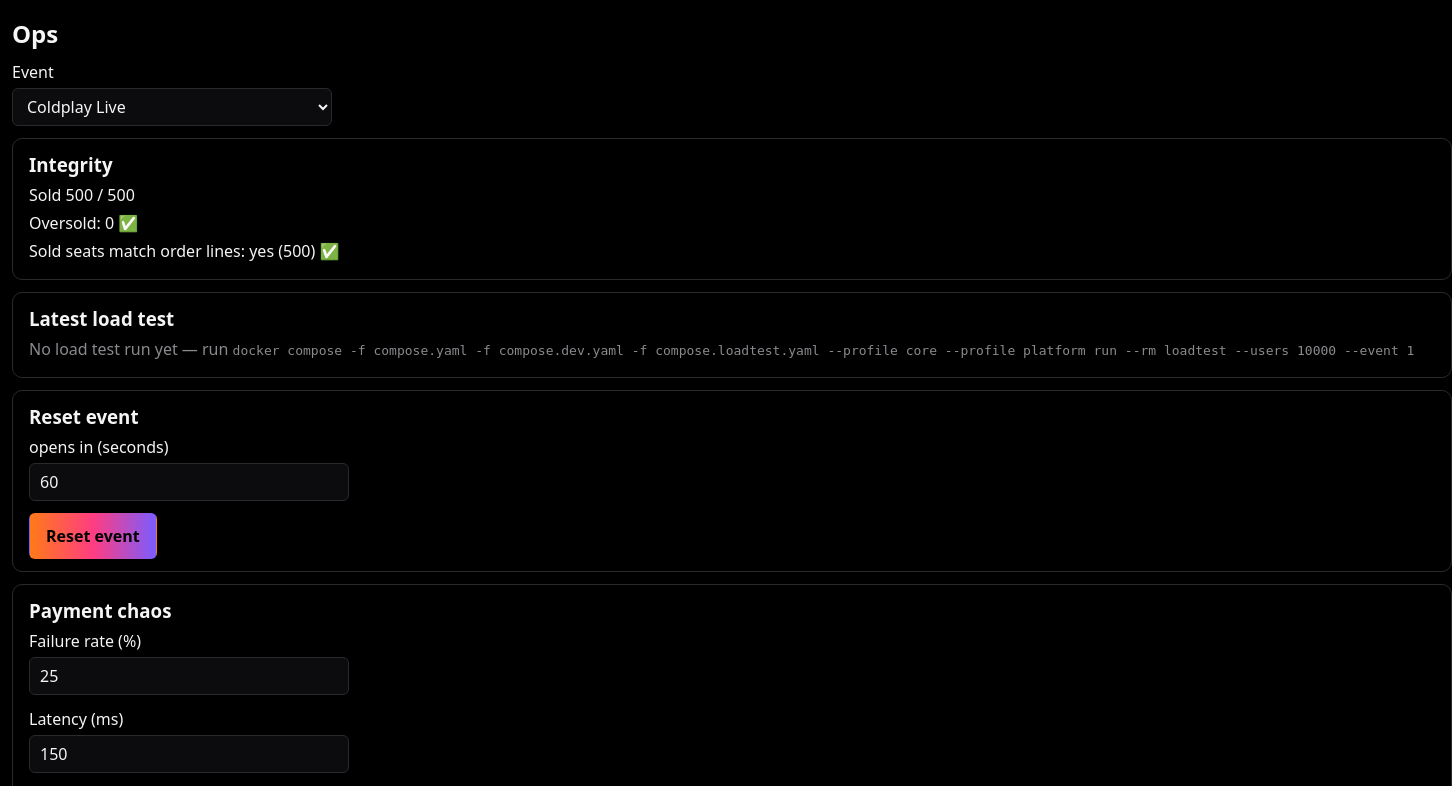
it: OpsPage › resets once even on double click
Expected: the text "Oversold: 0 ✅" is shown, [29,212,138,234]
Replace the text in the number field labelled "opens in (seconds)" with "30": [189, 482] box [29,463,349,501]
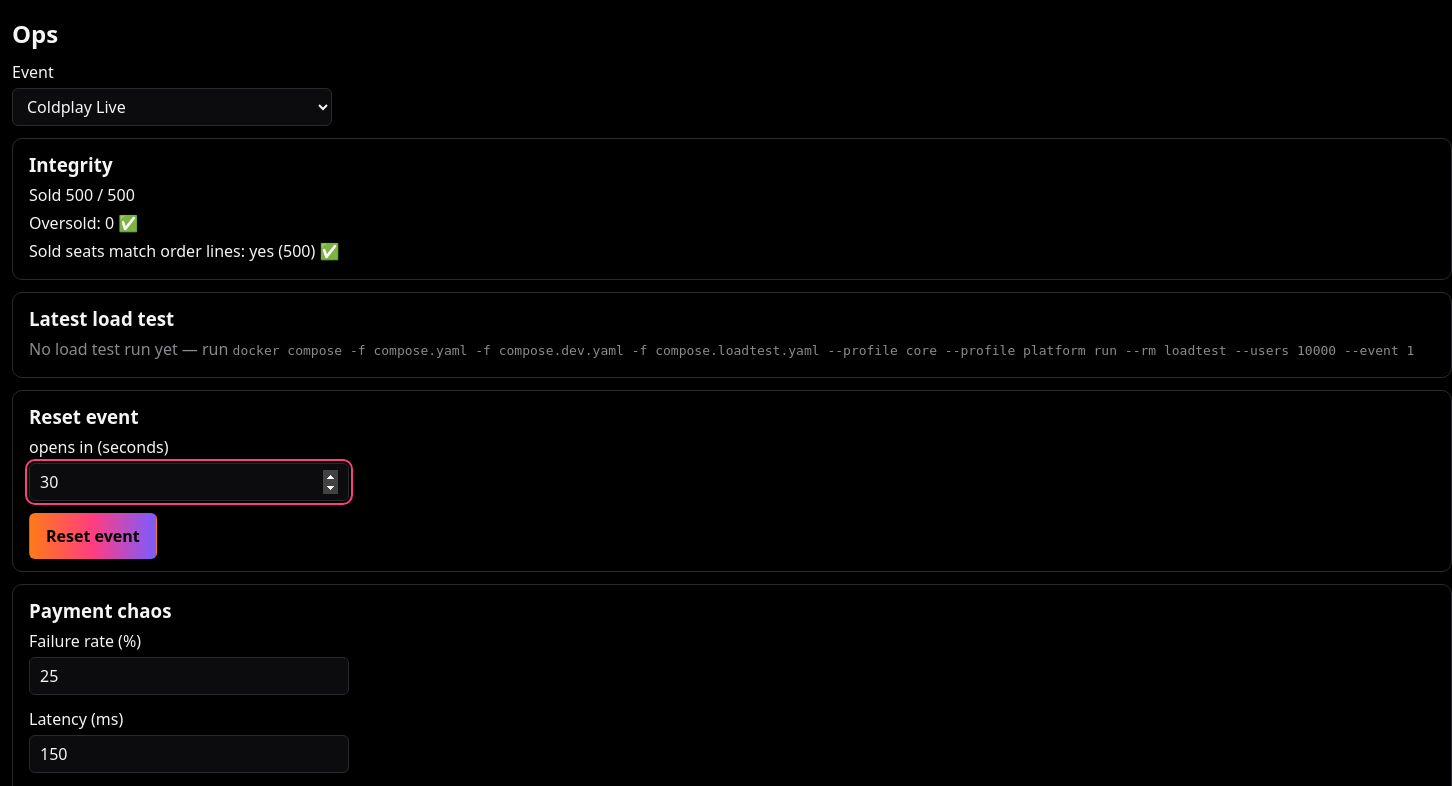
Double-click the button "Reset event": [93, 536] box [29,513,157,559]
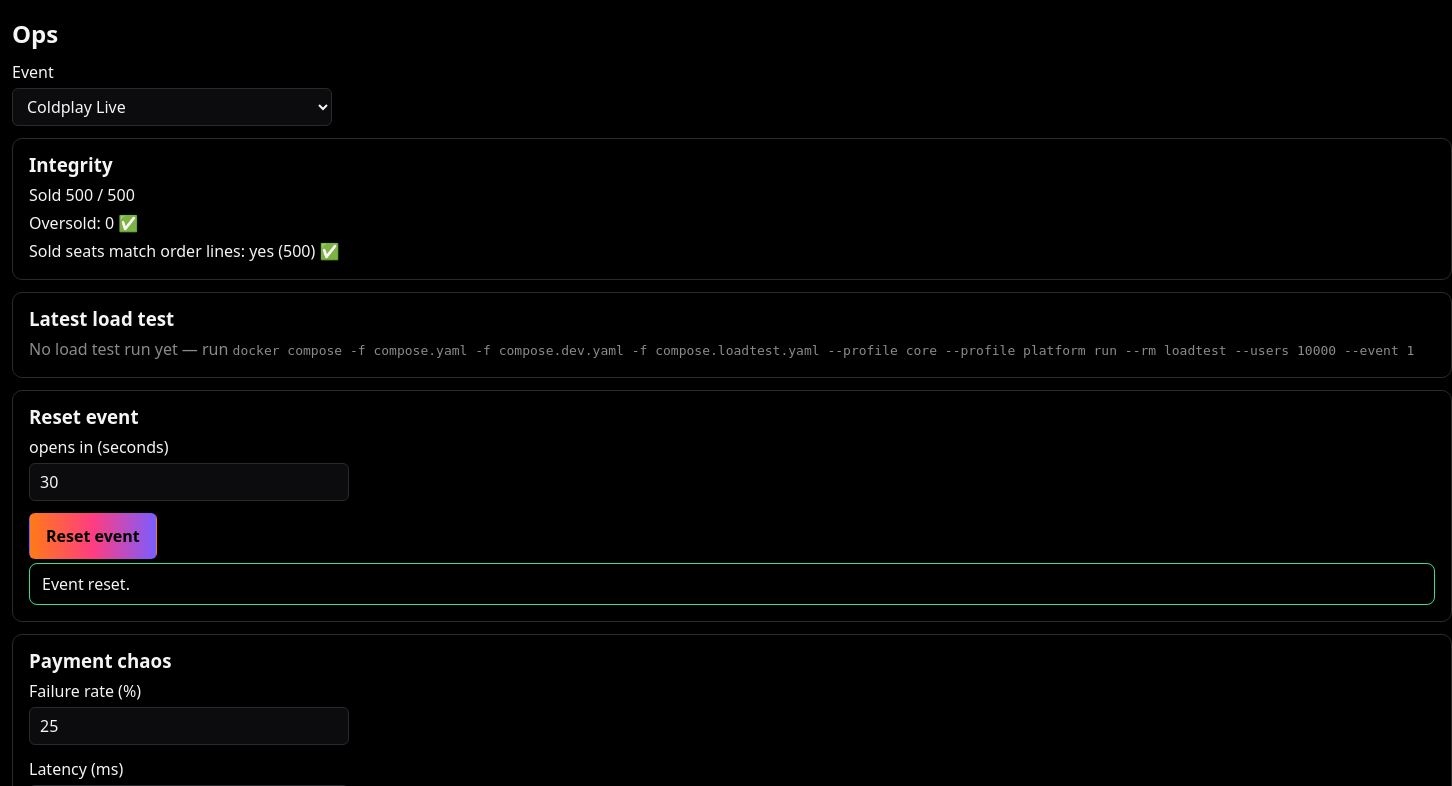
Now the text "Event reset." is shown, box [29,563,1435,605]
